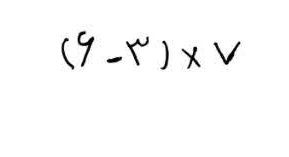character: (124, 34, 151, 68), (75, 28, 97, 69), (211, 39, 243, 67), (179, 44, 203, 71), (59, 36, 77, 71), (158, 38, 172, 72), (104, 54, 125, 65)
